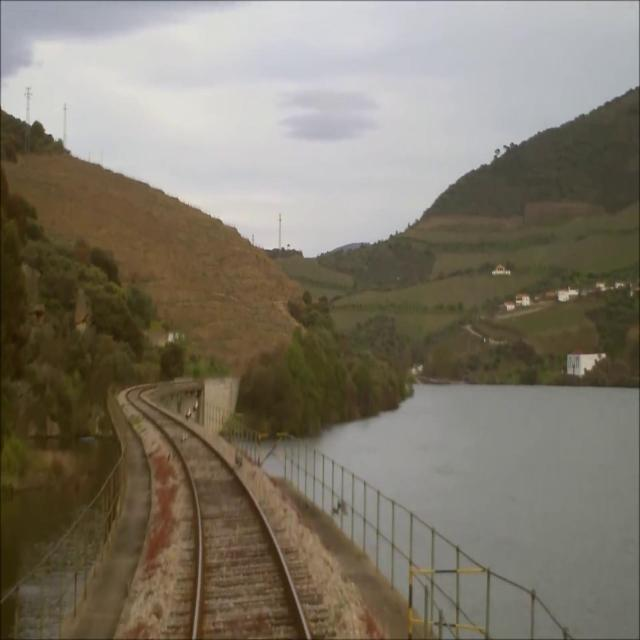rail-track: (130, 392, 306, 639)
